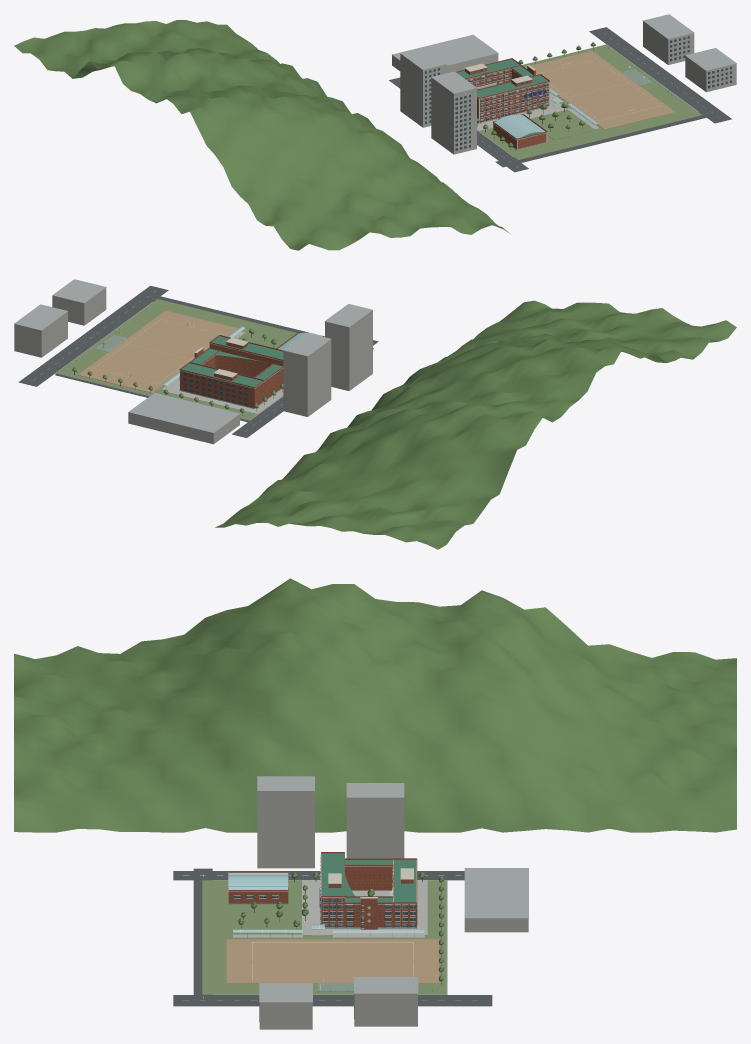
The model's file is school.glb.
3 renders of one model, top to bottom at view 1: azimuth 30°, elevation 25°; view 2: azimuth 150°, elevation 25°; view 3: azimuth 270°, elevation 25°, orthographic. The views are drawn at different scales.
Parts seen in each view (by area): view 1: Howon campus • static batched geometry; view 2: Howon campus • static batched geometry; view 3: Howon campus • static batched geometry.
Boxes of the visible parts, x1=… form: Howon campus • static batched geometry: x1=14, y1=14, x2=736, y2=250; Howon campus • static batched geometry: x1=14, y1=279, x2=736, y2=549; Howon campus • static batched geometry: x1=14, y1=578, x2=736, y2=1029.
Bounding box in the file's own units: 369 × 64.12 × 340.
Materials: 28 (1 with a texture image).
